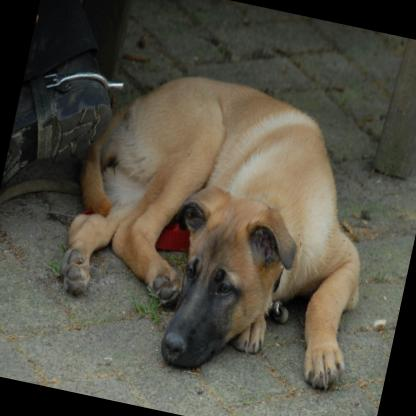malinois: (49, 58, 396, 398)
